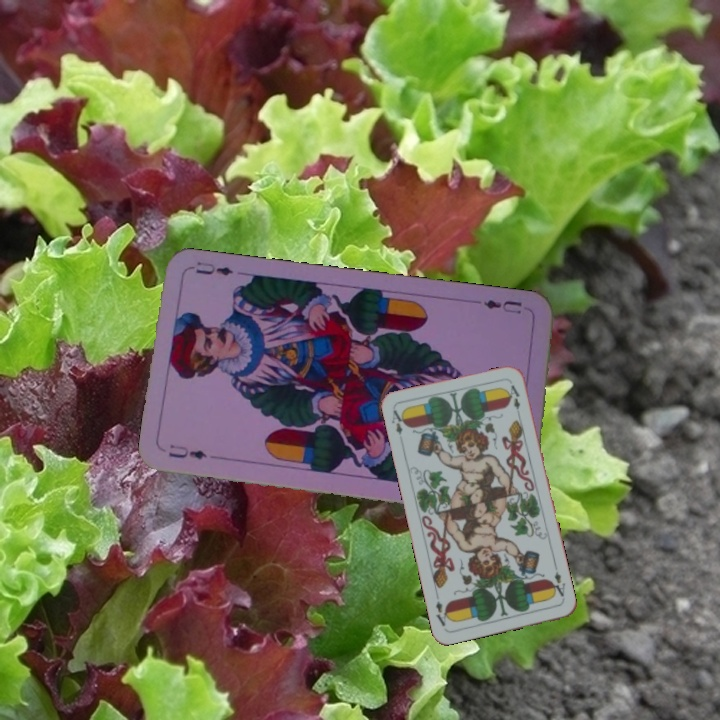EA: (547, 567, 568, 603), (388, 406, 408, 437)
EU: (164, 440, 210, 462), (479, 295, 525, 316)
